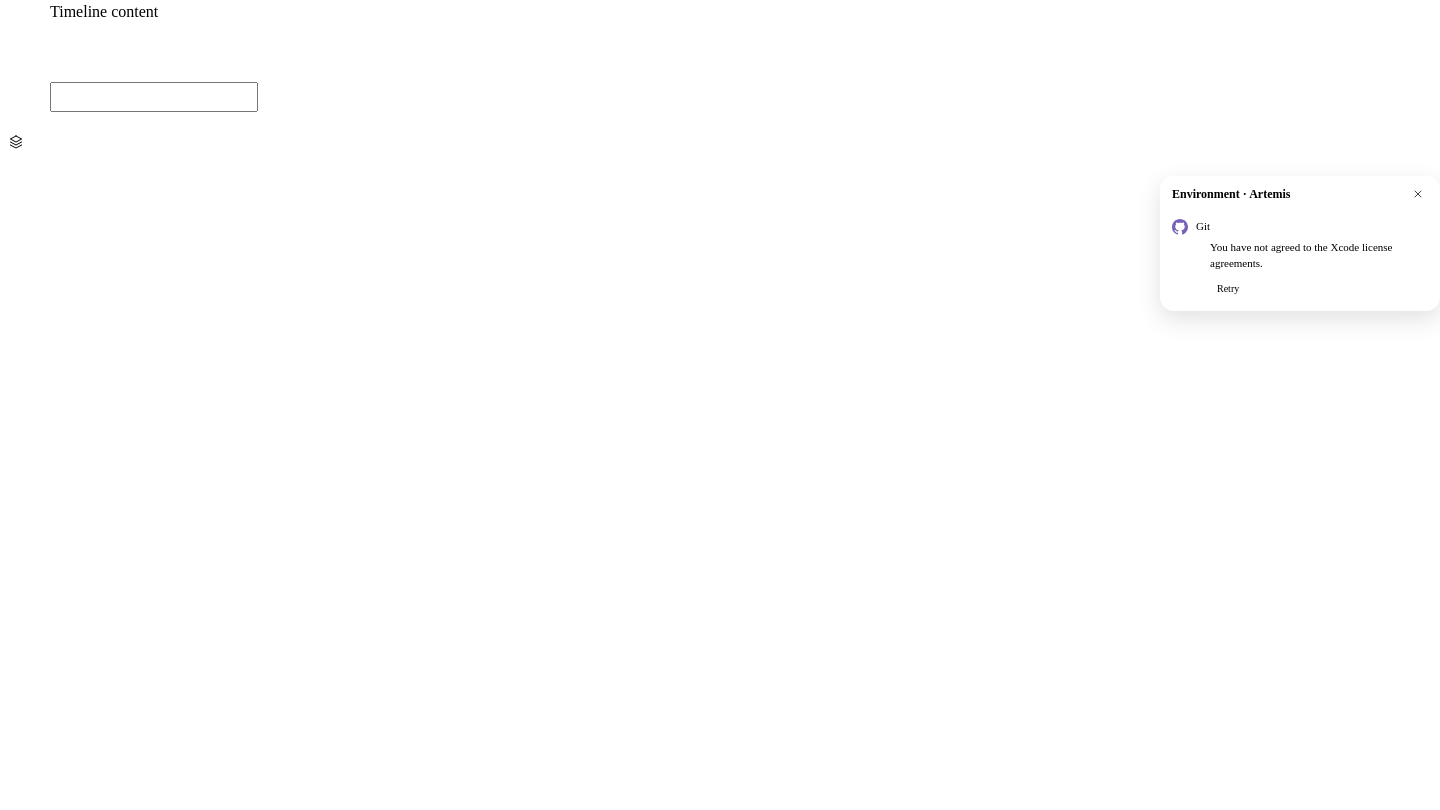
environment panel automatic visibility › shows an initial Git failure and recovers through retry
Expected: the dialog "Environment" is shown, [1160, 176, 1439, 311]
Expected: the message shows "Xcode license", [1210, 241, 1392, 269]
Step 1. Click the button "Retry" → (1228, 289), box [1210, 277, 1246, 301]
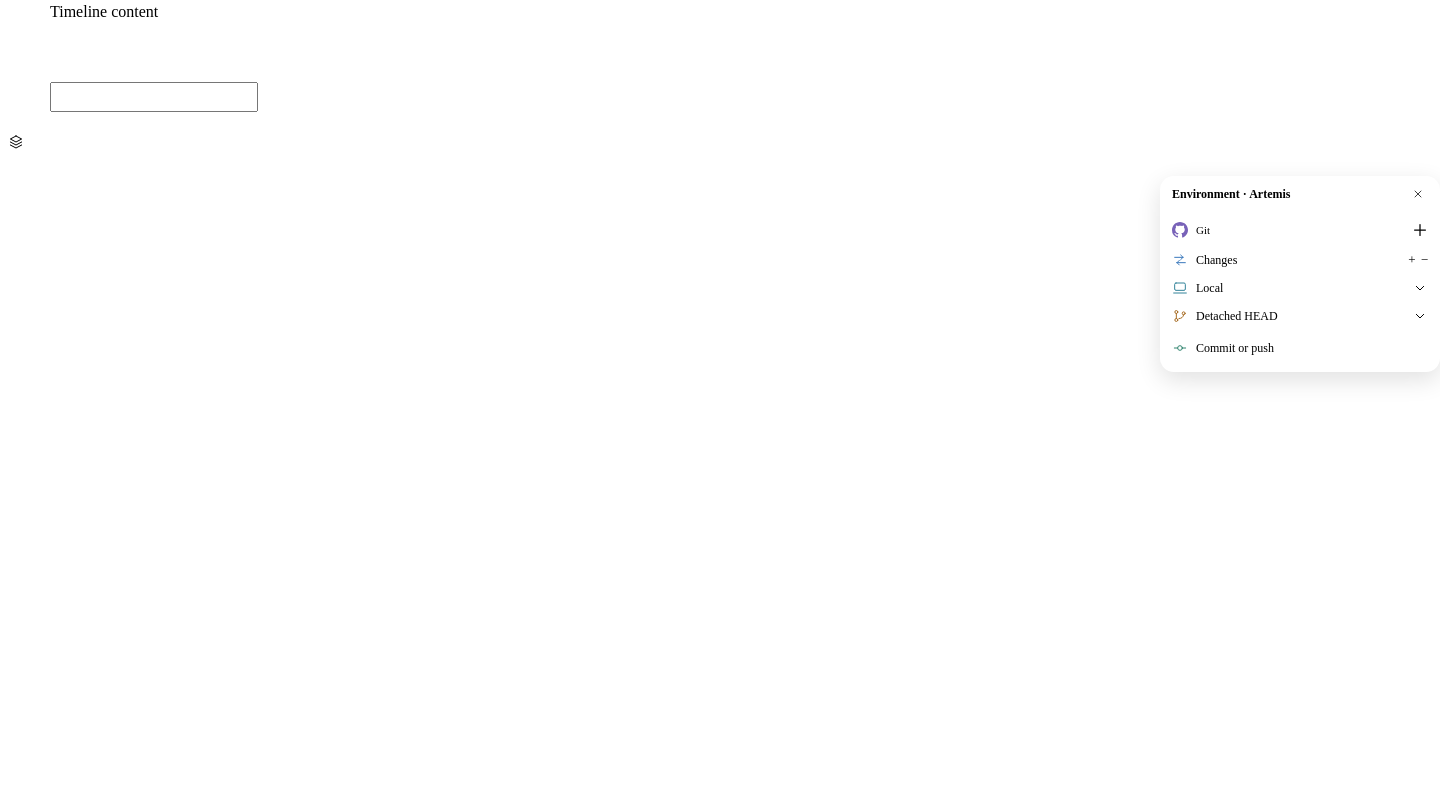
Expected: the heading "Git" is shown, [1172, 222, 1210, 238]
Expected: the message "You have not agreed to the Xcode license agreements. Retry" is gone
